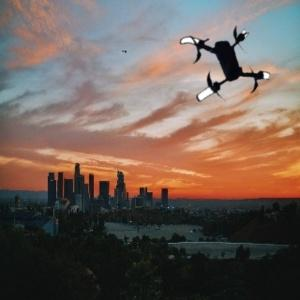drone: (172, 18, 271, 117)
